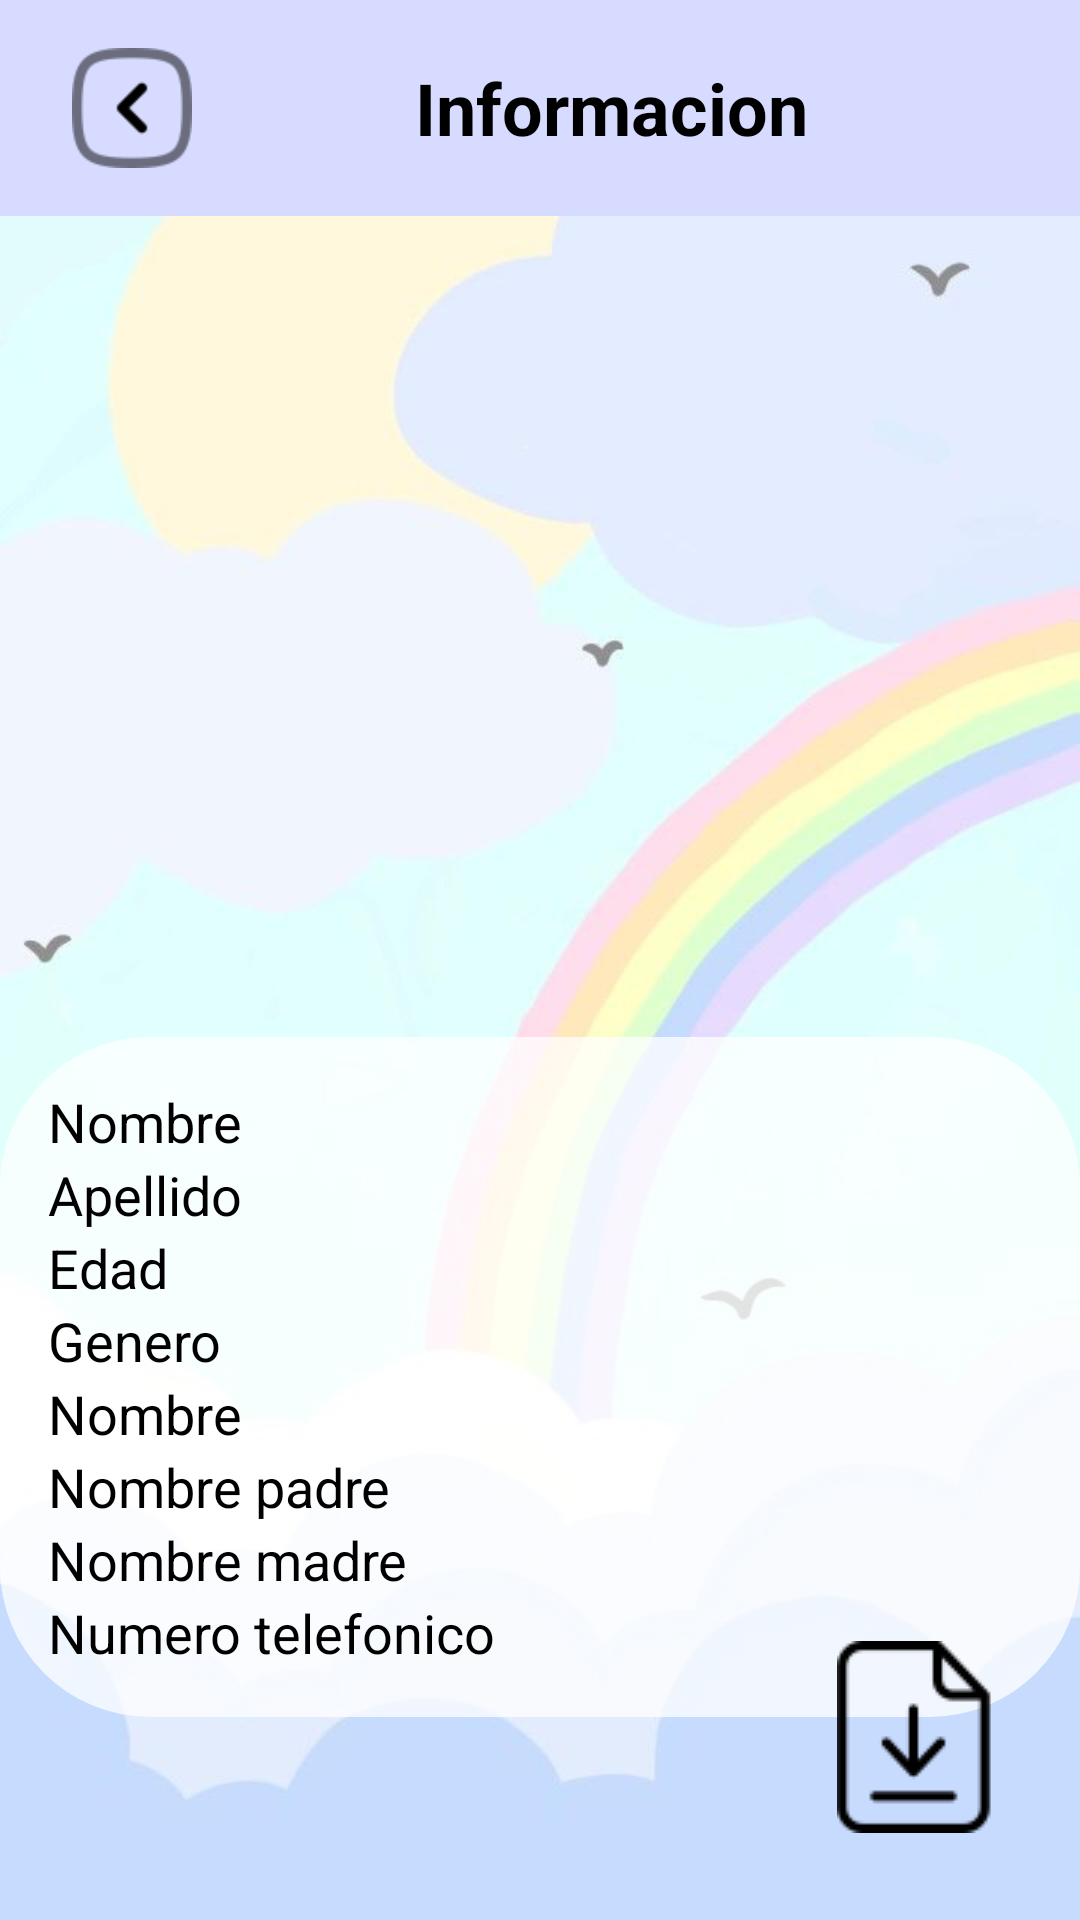

Screen size 1080 x 1920. Icon name, then its box in pixels as (x1, y1, x2, y2):
flecha regresar: (72, 48, 192, 168)
